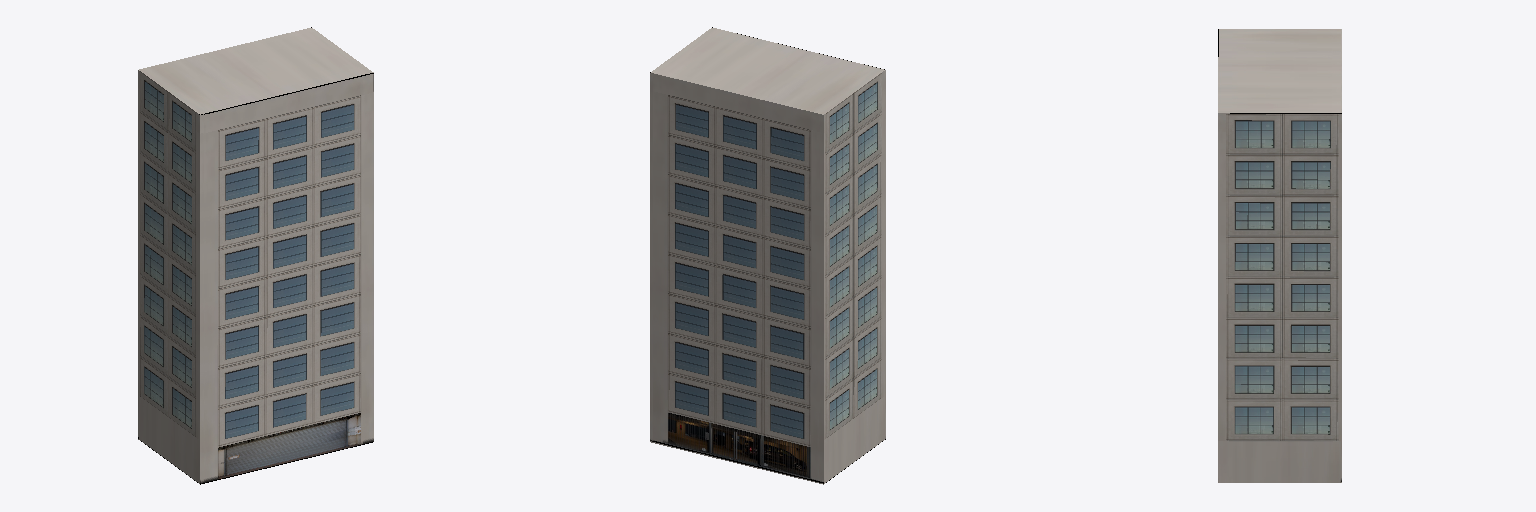
The picture shows the model from 3 angles: view 1: azimuth 30°, elevation 25°; view 2: azimuth 150°, elevation 25°; view 3: azimuth 270°, elevation 25°; orthographic projection.
Parts seen in each view (by area): view 1: building; view 2: building; view 3: building.
Part boxes in pixels (x1,y1,x2,y2): building: (138, 27, 373, 484); building: (650, 27, 885, 484); building: (1218, 29, 1341, 482).
Bounding box in the file's own units: 3.66 × 7.46 × 2.26.
1 materials, 1 textured.